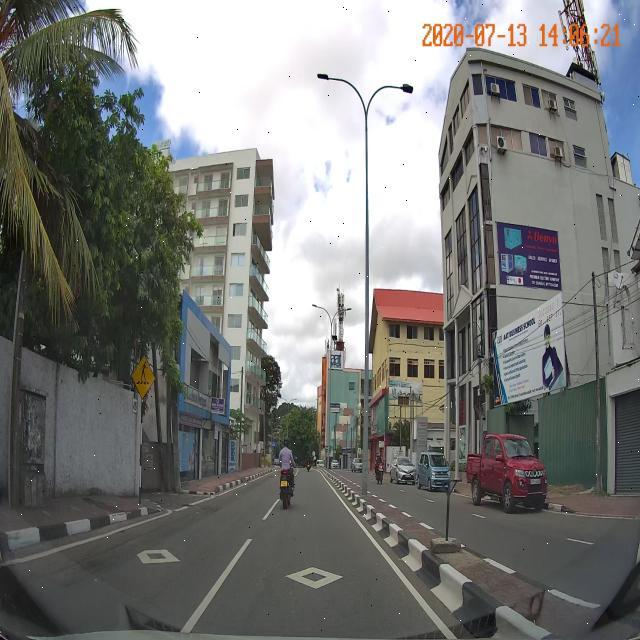diamond: (200, 545, 424, 599)
